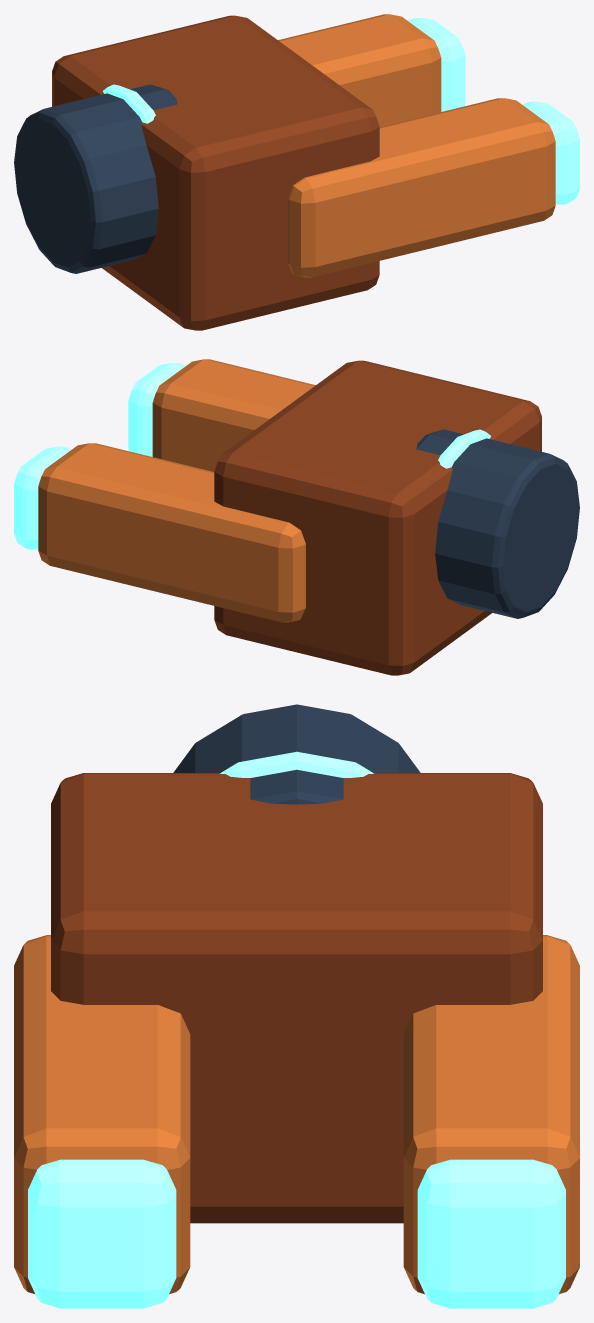
The model's file is mag_fork.glb.
3 renders of one model, top to bottom at view 1: azimuth 30°, elevation 25°; view 2: azimuth 150°, elevation 25°; view 3: azimuth 270°, elevation 25°, orthographic. The views are drawn at different scales.
Visible parts, largest first — view 1: ModuleArmor; view 2: ModuleArmor; view 3: ModuleArmor.
Boxes of the visible parts, x1=… form: ModuleArmor: x1=14, y1=14, x2=579, y2=330; ModuleArmor: x1=14, y1=359, x2=579, y2=675; ModuleArmor: x1=14, y1=704, x2=579, y2=1308.
Bounding box in the file's own units: 0.965 × 0.393 × 0.61.
